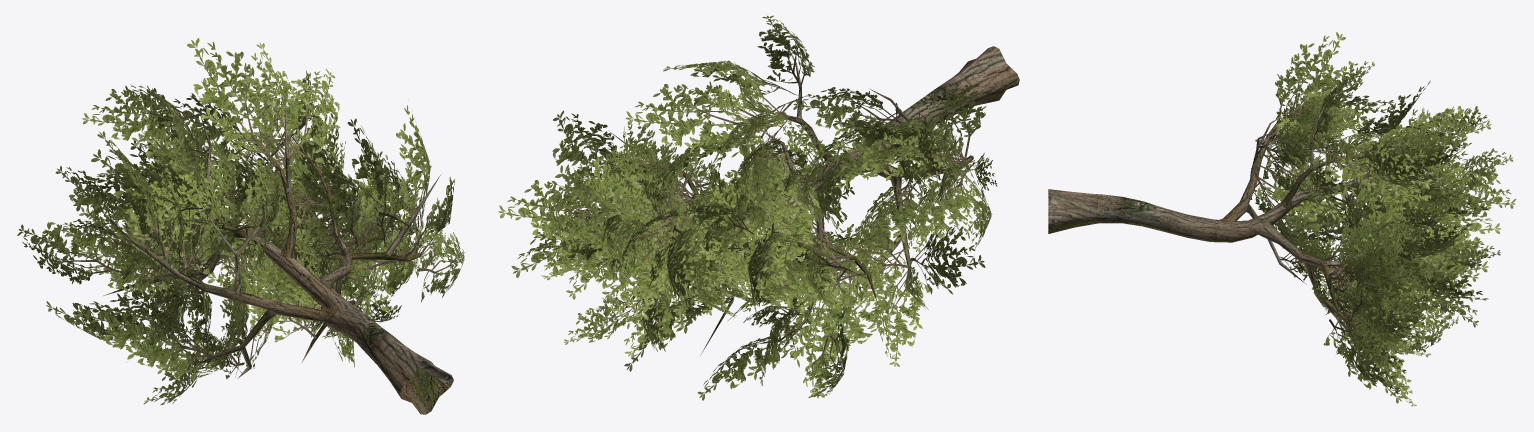
The model's file is wit_01.fbx.
The picture shows the model from 3 angles, left to right: view 1: azimuth 30°, elevation 25°; view 2: azimuth 150°, elevation 25°; view 3: azimuth 270°, elevation 25°; orthographic projection. The views are drawn at different scales.
Parts seen in each view (by area): view 1: wit_01; view 2: wit_01; view 3: wit_01.
Part boxes in pixels (bbox=[...]): wit_01: bbox=[17, 38, 464, 414]; wit_01: bbox=[498, 15, 1019, 400]; wit_01: bbox=[1048, 32, 1516, 406].
Size of the model in its own units: 3553 by 2884 by 3993.
